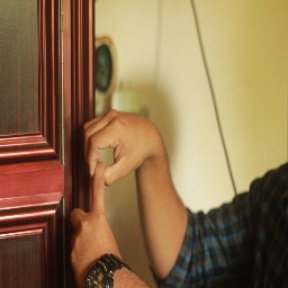Q: (69, 112, 168, 243)
